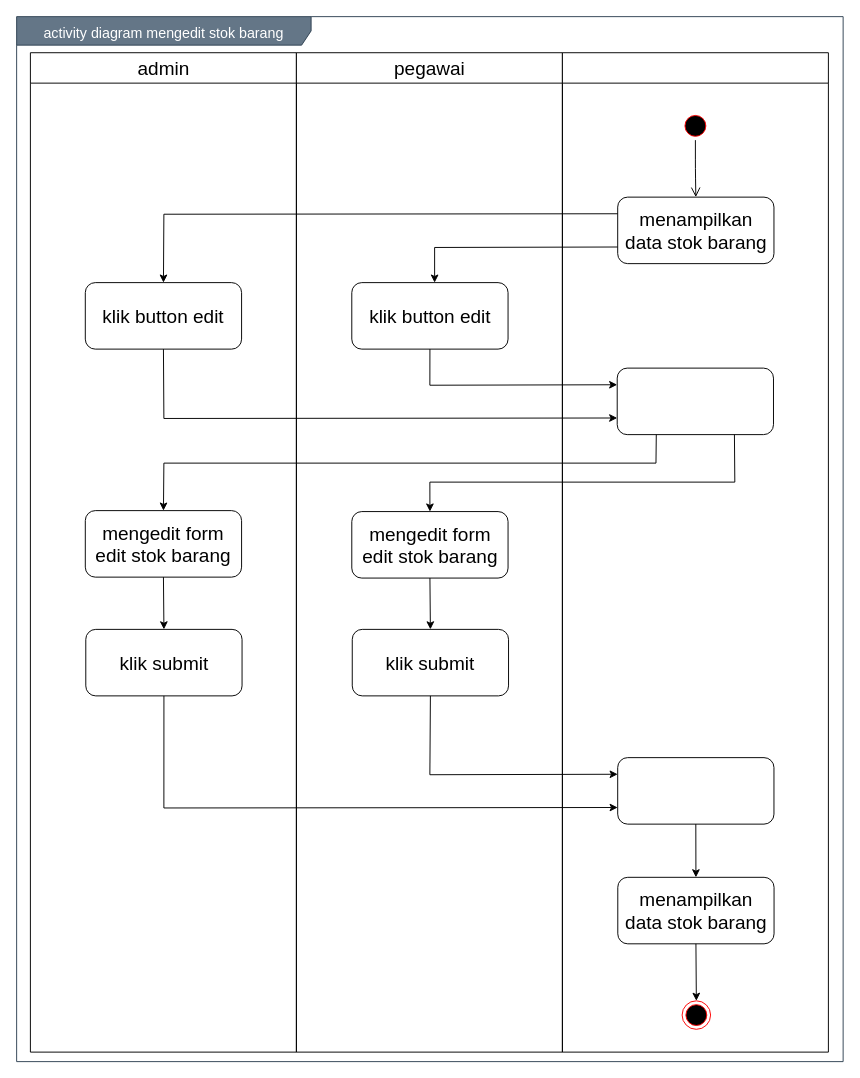
The diagram is 860 pixels wide and 1078 high, and some of its shapes have lost their labels. The shapes that lost their labels are listed below. From the top down, each one's box as (x1, y1, x2, y2) in pixels, then its label:
(616, 367, 773, 435): menampilkan form edit stok barang
(561, 52, 828, 1052): sistem
(617, 757, 774, 824): menyimpan ke database
